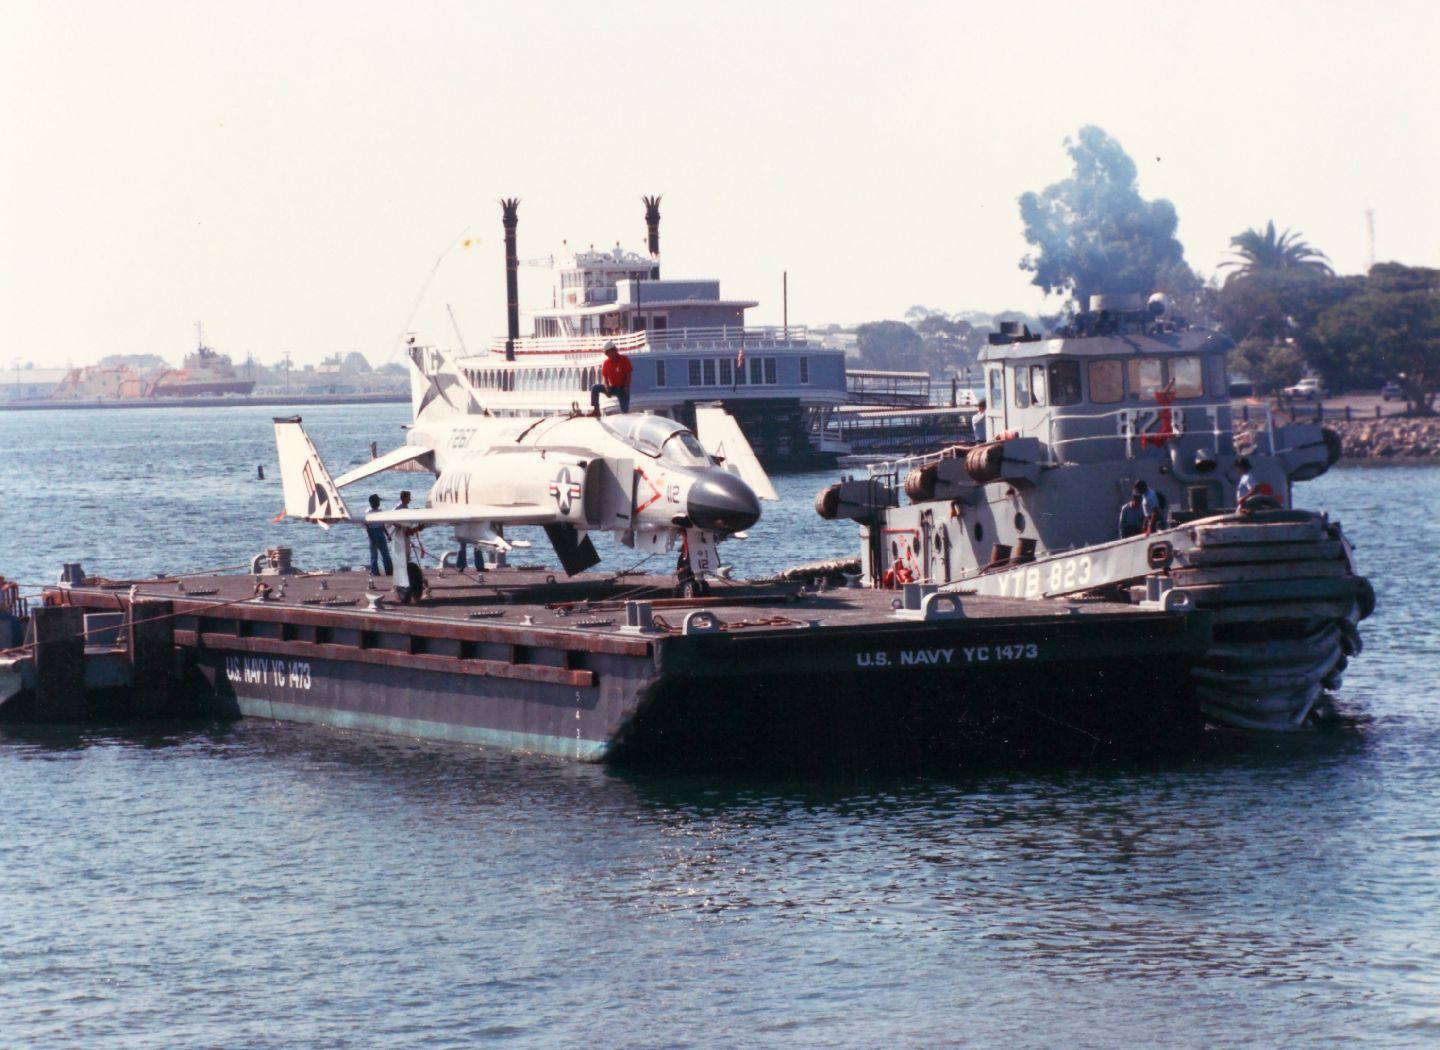F4: (271, 324, 781, 604)
